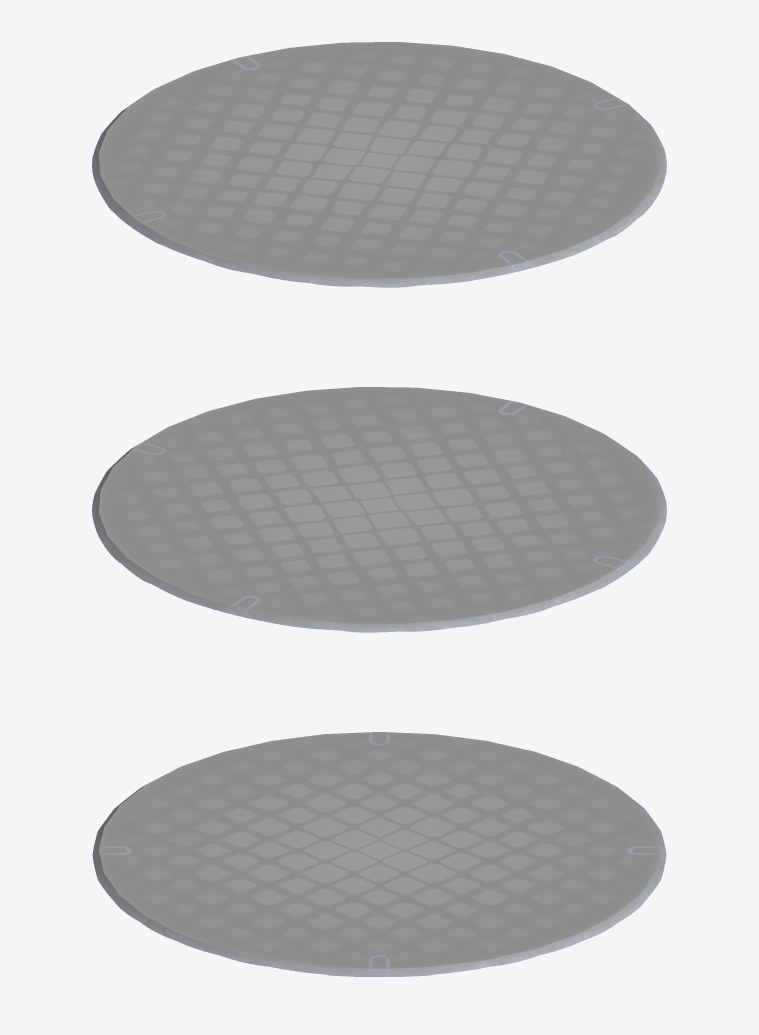
File: pref_TPC_v2_NeutralScoreArea03_winter_purple_born_lv3.fbx
3 renders of one model, top to bottom at view 1: azimuth 30°, elevation 25°; view 2: azimuth 150°, elevation 25°; view 3: azimuth 270°, elevation 25°, orthographic.
Visible parts, largest first — view 1: sm_prop_platform06a_lv3; view 2: sm_prop_platform06a_lv3; view 3: sm_prop_platform06a_lv3.
Boxes of the visible parts, x1,y1,x2,y2 form: sm_prop_platform06a_lv3: [92, 42, 666, 287]; sm_prop_platform06a_lv3: [92, 387, 666, 632]; sm_prop_platform06a_lv3: [92, 732, 666, 976].
Bounding box in the file's own units: 7.46 × 0.363 × 7.46.
